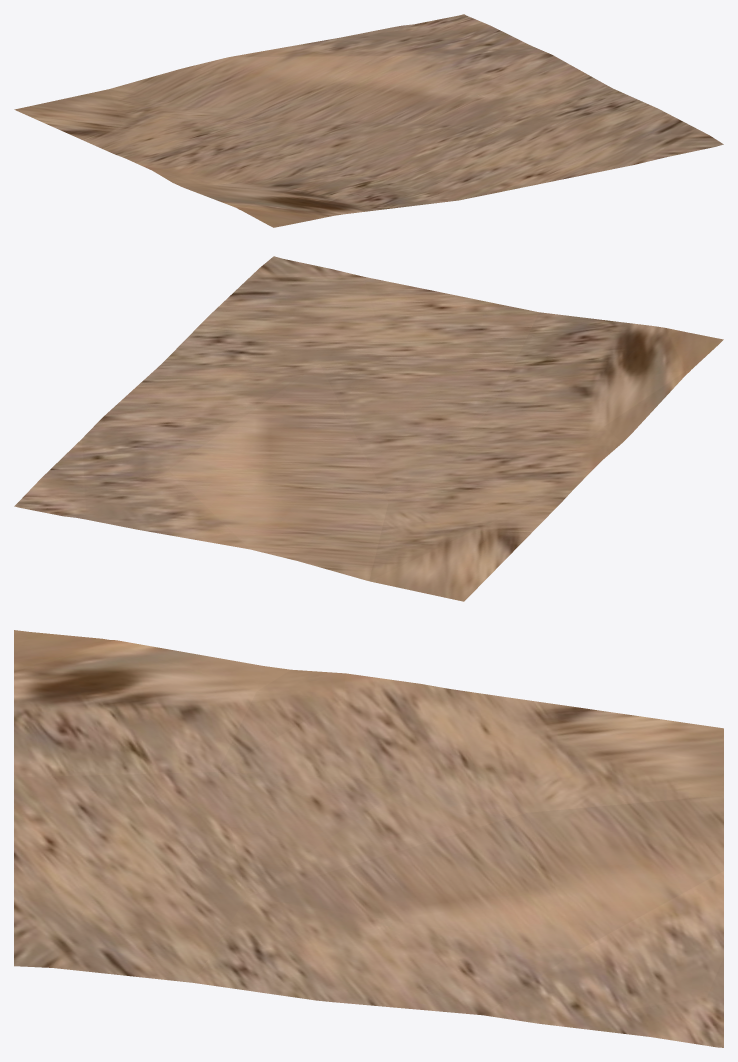
The picture shows the model from 3 angles, top to bottom: view 1: azimuth 30°, elevation 25°; view 2: azimuth 150°, elevation 25°; view 3: azimuth 270°, elevation 25°; orthographic projection. The views are drawn at different scales.
Bounding box in the file's own units: 2.09 × 0.3835 × 2.09.
Materials: 3 (3 with a texture image).
